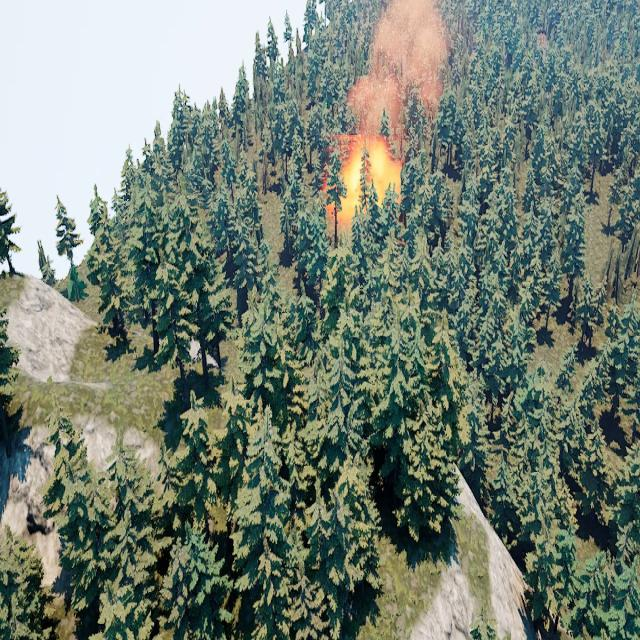fire: (329, 135, 403, 212)
smoke: (348, 2, 452, 135)
